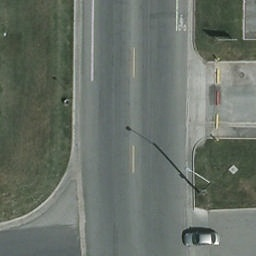car: (182, 231, 222, 247)
